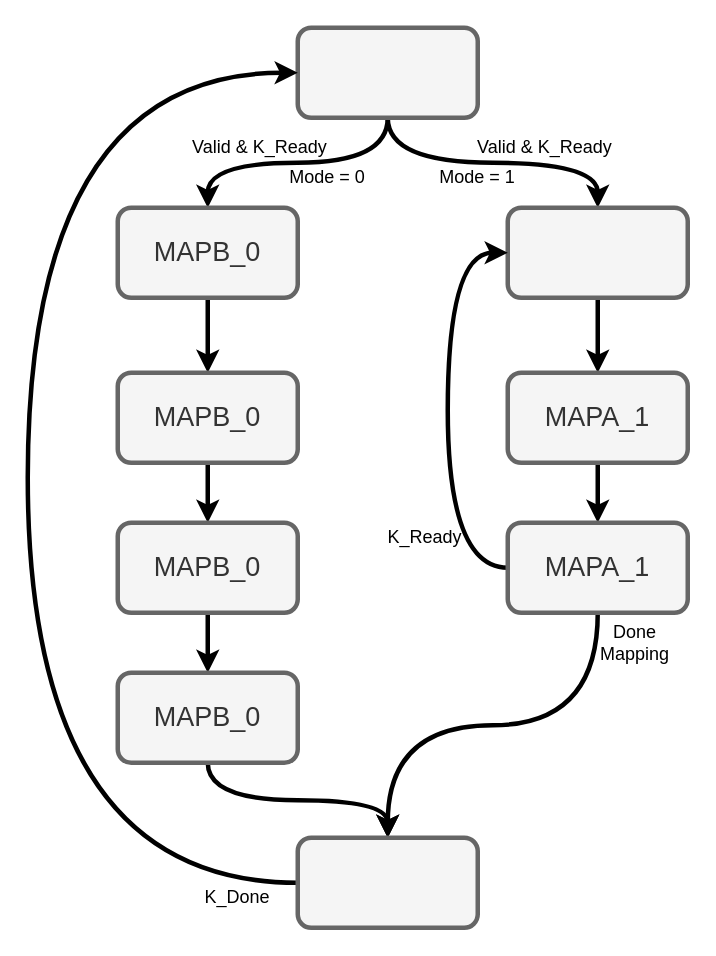
This 716x956 diagram has some shape labels left out. Each missing label, with the centre of its shape:
"DATA_WRITE" belongs at point (387, 882).
"IDLE" belongs at point (387, 72).
"MAPA_0" belongs at point (597, 252).
